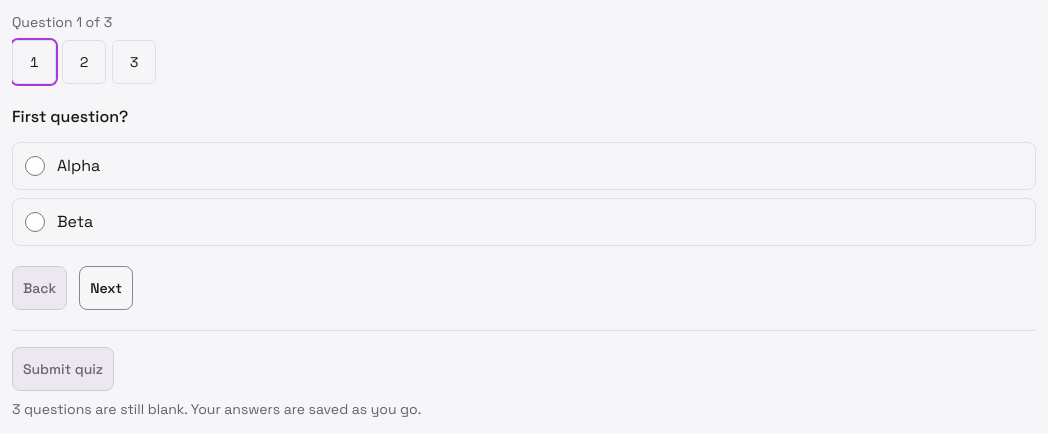
Test: QuizStep › says so when saving fails, and does not lose the answer on screen
Expected: the text "First question?" is shown, top-left (12, 106), bottom-right (128, 127)
Click the radio button labelled "Alpha" at (35, 166), box top-left (25, 156), bottom-right (45, 176)
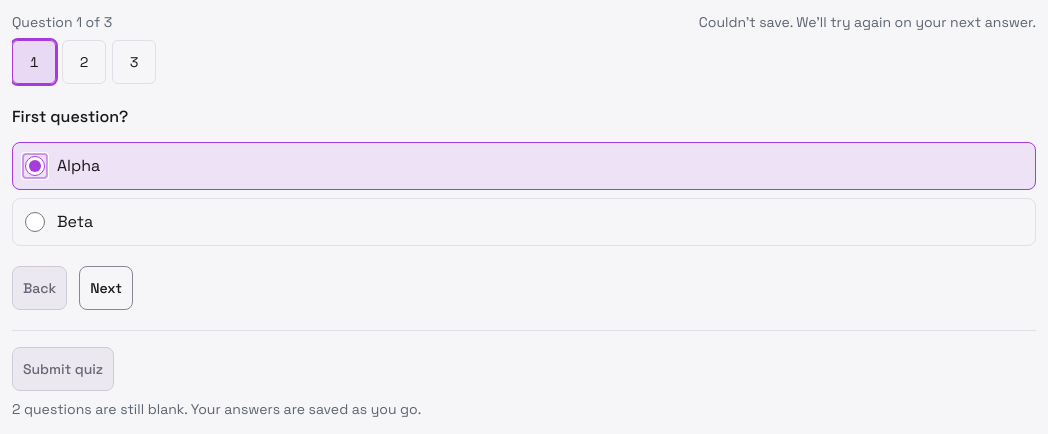
Expected: the radio button labelled "Alpha" is checked, top-left (25, 156), bottom-right (45, 176)
Expected: the text "Couldn't save. We'll try again on your next answer." is shown, top-left (699, 12), bottom-right (1036, 32)
